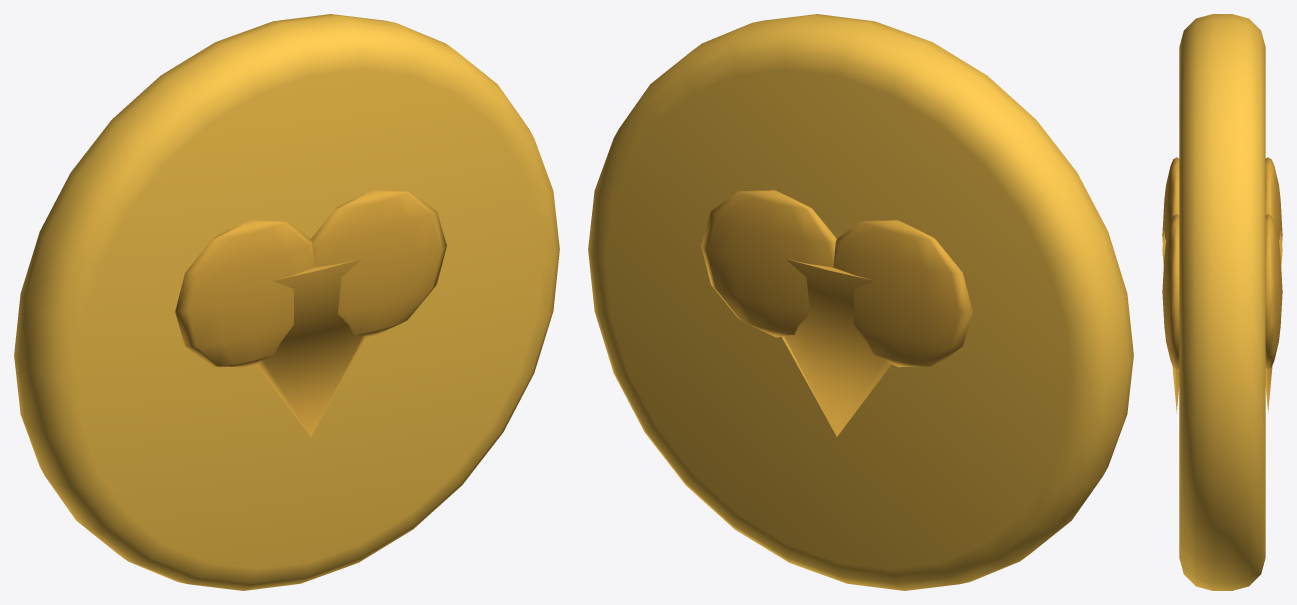
File: coin.glb
3 renders of one model, left to right at view 1: azimuth 30°, elevation 25°; view 2: azimuth 150°, elevation 25°; view 3: azimuth 270°, elevation 25°, orthographic. The views are drawn at different scales.
Visible parts, largest first — view 1: Coin; view 2: Coin; view 3: Coin.
Part boxes in pixels (x1,y1,x2,y2): Coin: (14, 14, 559, 590); Coin: (588, 14, 1133, 590); Coin: (1162, 14, 1282, 590).
Bounding box in the file's own units: 0.24 × 0.24 × 0.05.
